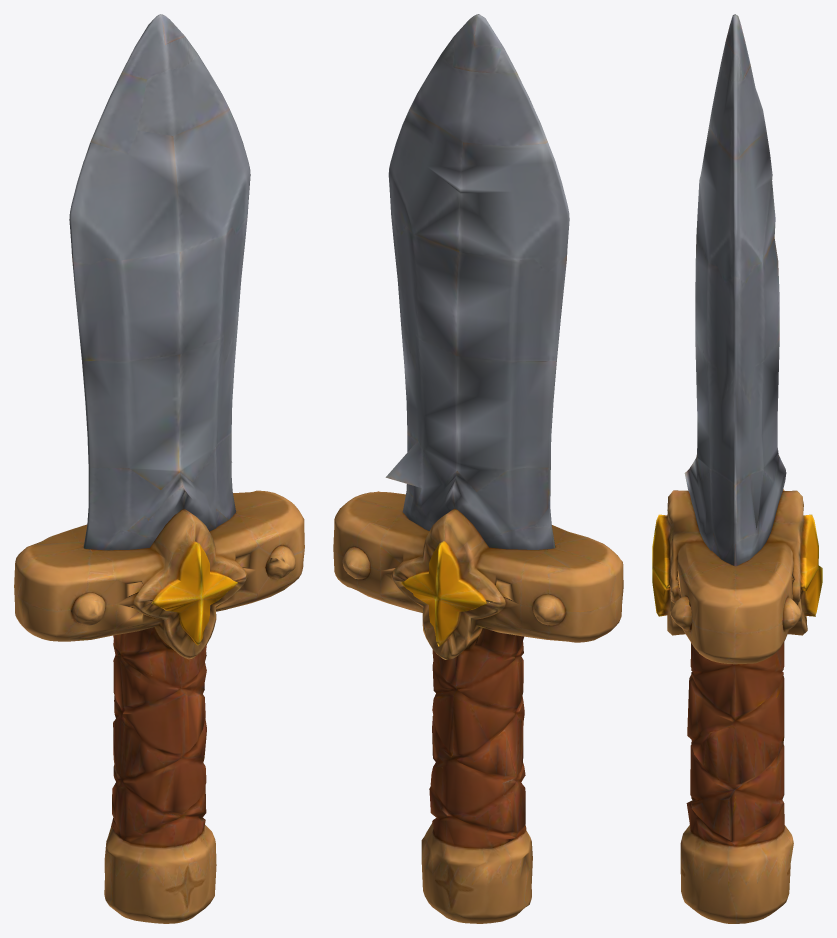
Rendered from sword-01.web.glb.
The picture shows the model from 3 angles, left to right: view 1: azimuth 30°, elevation 25°; view 2: azimuth 150°, elevation 25°; view 3: azimuth 270°, elevation 25°; orthographic projection.
Parts seen in each view (by area): view 1: WeaponMesh; view 2: WeaponMesh; view 3: WeaponMesh.
Boxes of the visible parts, left/top/right/bottom form: WeaponMesh: left=14, top=14, right=304, bottom=923; WeaponMesh: left=333, top=14, right=623, bottom=923; WeaponMesh: left=652, top=14, right=822, bottom=923.
Bounding box in the file's own units: 0.2639 × 0.82 × 0.1418.
4 materials, 4 textured.
